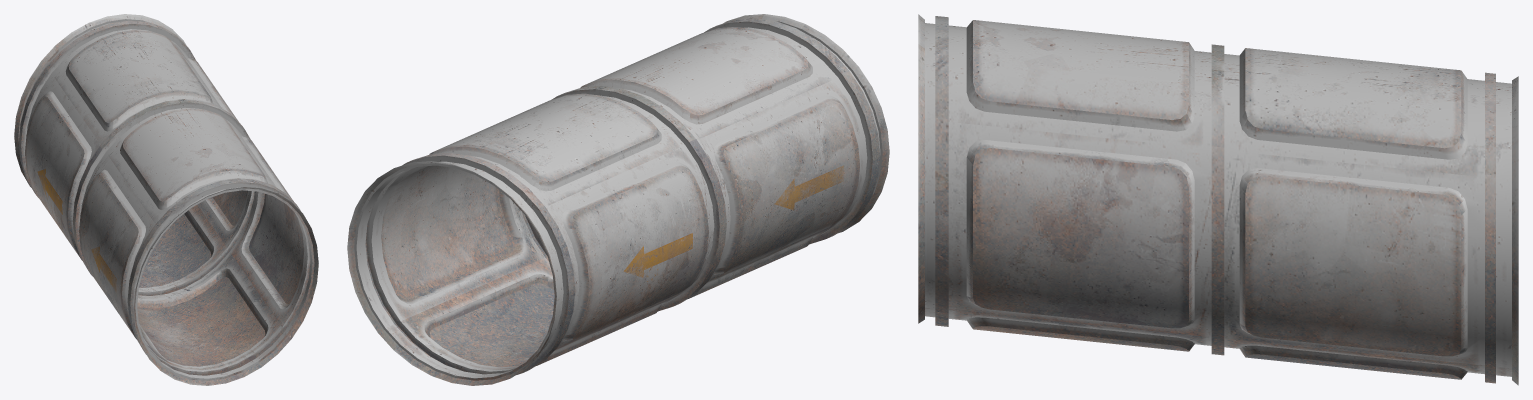
File: Corridor_Right.obj
3 renders of one model, left to right at view 1: azimuth 30°, elevation 25°; view 2: azimuth 150°, elevation 25°; view 3: azimuth 270°, elevation 25°, orthographic. The views are drawn at different scales.
Visible parts, largest first — view 1: Cylinder003; view 2: Cylinder003; view 3: Cylinder003.
Boxes of the visible parts, x1,y1,x2,y2 form: Cylinder003: (14, 14, 318, 385); Cylinder003: (347, 14, 889, 385); Cylinder003: (918, 14, 1518, 385).
Bounding box in the file's own units: 15.56 × 10.65 × 20.45.
1 material, 1 textured.
